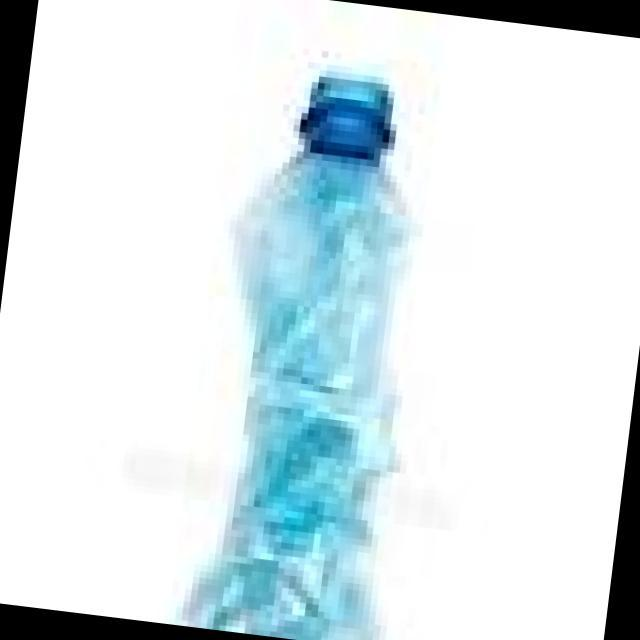defected: (147, 33, 486, 640)
